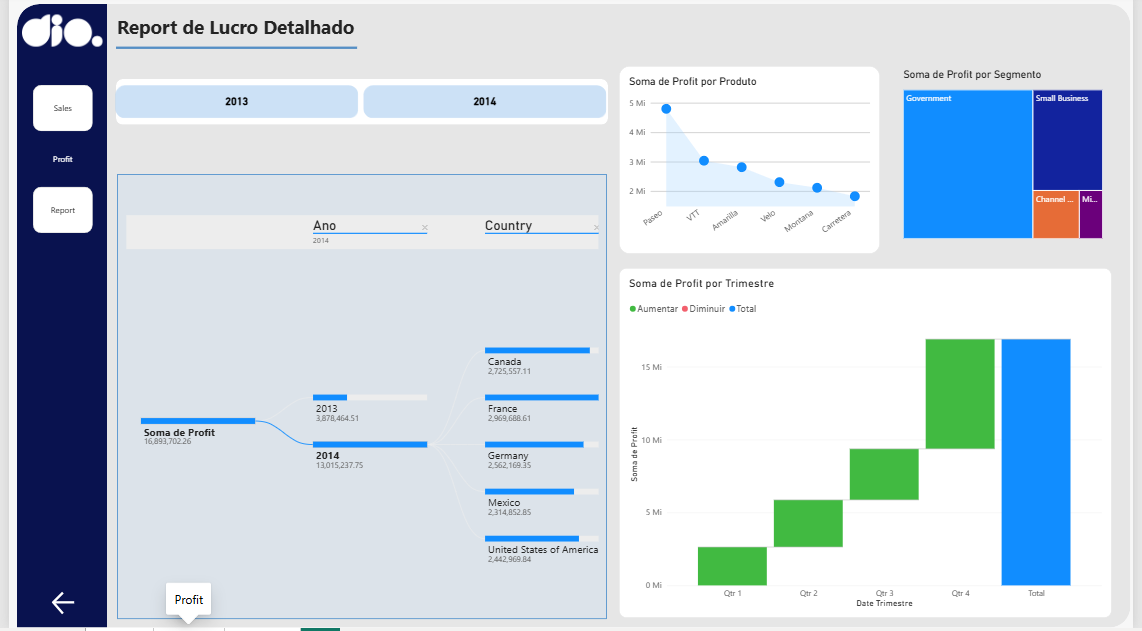

What the dashboard file says about the page in this screenshot:
{"tool":"powerbi","page":{"name":"Profit","canvas":[1920,1080],"ordinal":1},"visuals":[{"type":"shape","box":[183,66.8,412.1,43.6],"z":0,"group":"g1"},{"type":"shape","box":[23.8,13.9,1892.4,1065.6],"z":1000},{"type":"textbox","box":[185.1,30.8,418.1,55.5],"z":1000,"group":"g1"},{"type":"shape","box":[13.8,13.8,153.9,1065.6],"z":2000},{"type":"image","title":"logo-dio","box":[23,9.2,137.8,101.1],"z":3000},{"type":"shape","box":[185,304.2,836.7,760.6],"z":3500},{"type":"group","id":"g1","title":"Title report","box":[183,30.8,421.4,78.1],"z":4000},{"type":"actionButton","box":[23.8,1010.5,138.7,55.5],"z":5000},{"type":"treemap","title":"Soma de Profit por Segmento","fields":{"Values":["Sum(financials.Profit)"],"Group":["financials.Segment"]},"box":[1513.1,109.6,372.5,321],"z":9000},{"type":"waterfallChart","title":"Soma de Profit por Trimestre","fields":{"Y":["Sum(financials.Profit)"],"Category":["financials.Date.Variation.Hierarquia de datas.Trimestre"]},"box":[1042.8,465.4,842.1,598.4],"z":10000},{"type":"decompositionTreeVisual","fields":{"Analyze":["Sum(financials.Profit)"],"ExplainBy":["financials.Date.Variation.Hierarquia de datas.Ano","financials.Country"]},"box":[185.2,360.6,838.7,717.4],"z":11000},{"type":"stackedAreaChart","title":"Soma de Profit por Produto","fields":{"Category":["financials.Product"],"Y":["Sum(financials.Profit)"]},"box":[1042.8,119.4,445.8,321],"z":12000},{"type":"shape","box":[183,141.8,840.8,78.1],"z":13000},{"type":"advancedSlicerVisual","fields":{"Values":["financials.Date.Variation.Hierarquia de datas.Ano"]},"box":[180.9,152.1,840.8,57.6],"z":14000},{"type":"pageNavigator","box":[41.1,152.1,102.8,254.9],"z":15000}]}

Visuals, with their boxes on the page's 1920x1080 design canvas (x1, y1, x2, y2). These are canvas units, not pixel positions in the 1142x631 screenshot, which may show the page scaled, cropped or inside an application window:
shape: left=183, top=67, right=595, bottom=110
shape: left=24, top=14, right=1916, bottom=1080
textbox: left=185, top=31, right=603, bottom=86
shape: left=14, top=14, right=168, bottom=1079
"logo-dio" image: left=23, top=9, right=161, bottom=110
shape: left=185, top=304, right=1022, bottom=1065
"Title report" group: left=183, top=31, right=604, bottom=109
actionButton: left=24, top=1010, right=162, bottom=1066
"Soma de Profit por Segmento" treemap: left=1513, top=110, right=1886, bottom=431
"Soma de Profit por Trimestre" waterfallChart: left=1043, top=465, right=1885, bottom=1064
decompositionTreeVisual - Sum(financials.Profit) x financials.Date.Variation.Hierarquia de datas.Ano: left=185, top=361, right=1024, bottom=1078
"Soma de Profit por Produto" stackedAreaChart: left=1043, top=119, right=1489, bottom=440
shape: left=183, top=142, right=1024, bottom=220
advancedSlicerVisual - financials.Date.Variation.Hierarquia de datas.Ano: left=181, top=152, right=1022, bottom=210
pageNavigator: left=41, top=152, right=144, bottom=407
